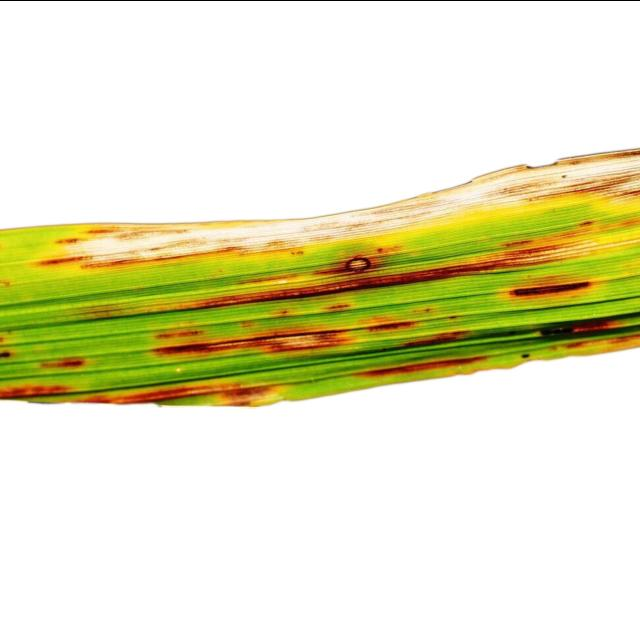Narrow brown: (0, 78, 640, 452)
